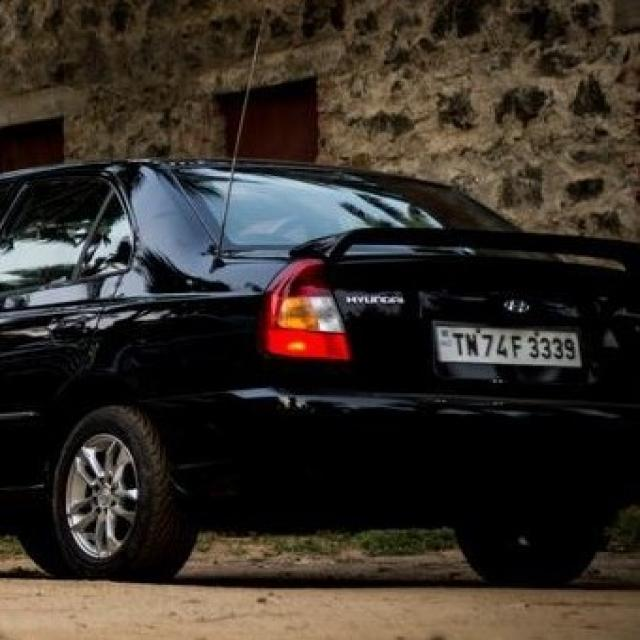license-plate: (433, 321, 582, 364)
